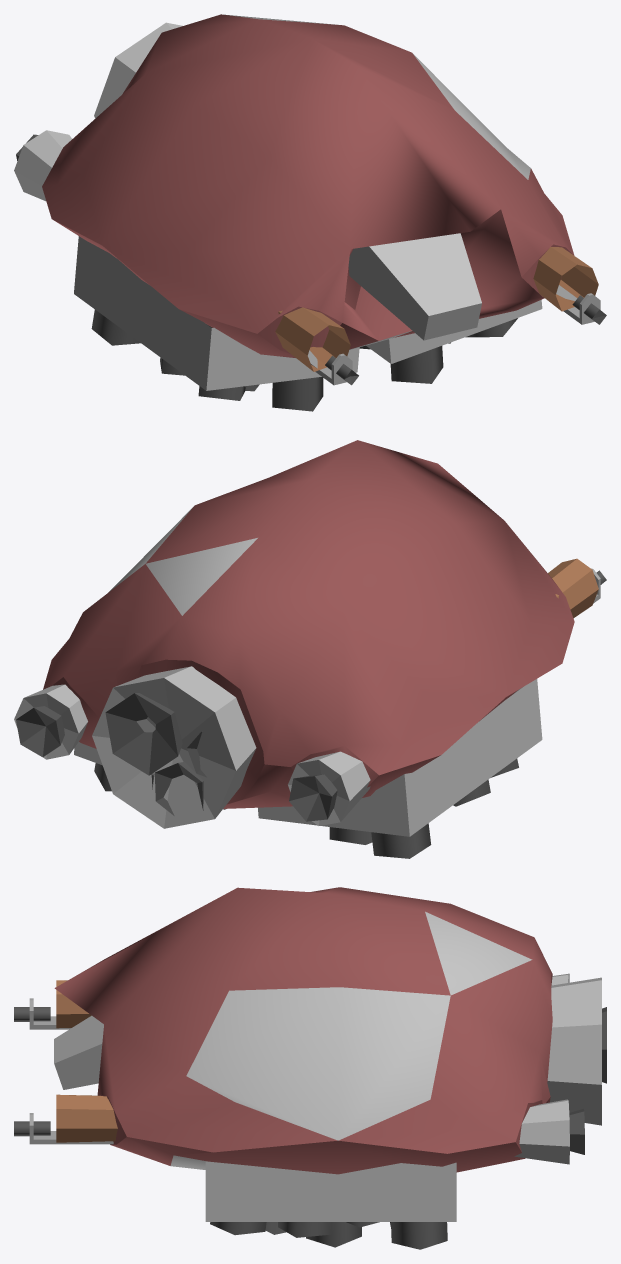
File: H_Bomber_LOD.fbx
3 views of the same model, one above another, from view 1: azimuth 30°, elevation 25°; view 2: azimuth 150°, elevation 25°; view 3: azimuth 270°, elevation 25° (orthographic). The views are drawn at different scales.
Parts seen in each view (by area): view 1: polySurface96; view 2: polySurface96; view 3: polySurface96.
Part boxes in pixels (x1,y1,x2,y2): polySurface96: [14, 14, 606, 411]; polySurface96: [14, 440, 606, 858]; polySurface96: [14, 887, 606, 1249].
Bounding box in the file's own units: 25.14 × 19.32 × 33.79.
